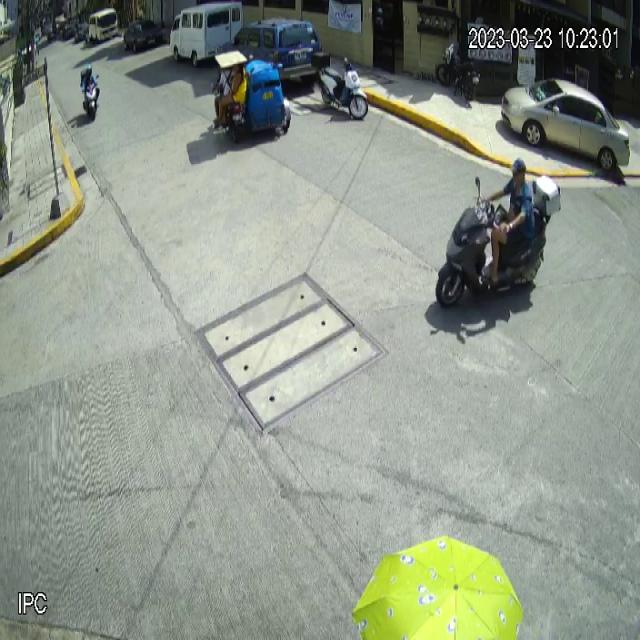Car: (501, 78, 632, 173), (217, 17, 323, 89)
Motorcycle: (436, 174, 562, 311), (310, 48, 368, 122)
Tricycle: (212, 50, 293, 142)
Van: (170, 1, 242, 67)
